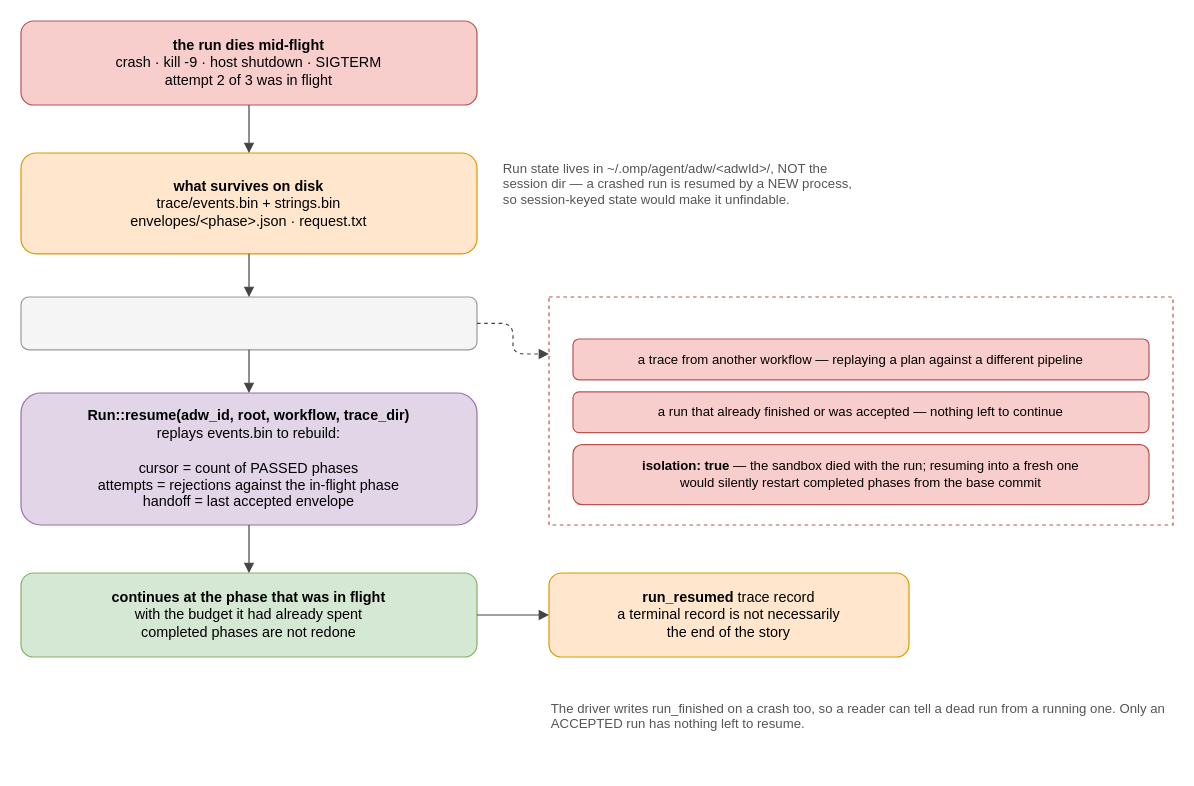
This 1194x786 diagram has some shape labels left out. Each missing label, with the box of its shape:
/adw resume ship adw-1574a6b1b268f57c: (20, 296, 477, 350)
resume REFUSES, up front, before any I/O: (548, 296, 1173, 525)
